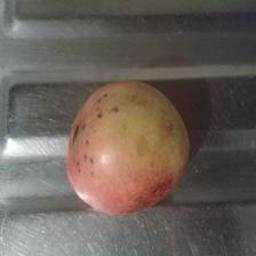Mango Semifresh: (53, 62, 215, 223)
